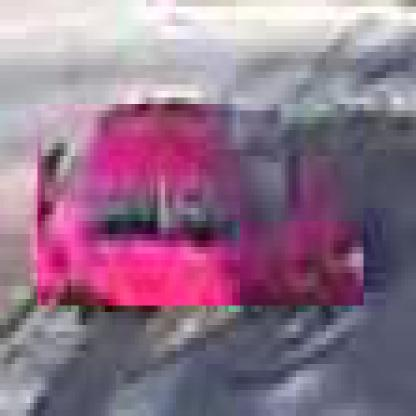car: (35, 105, 365, 313)
